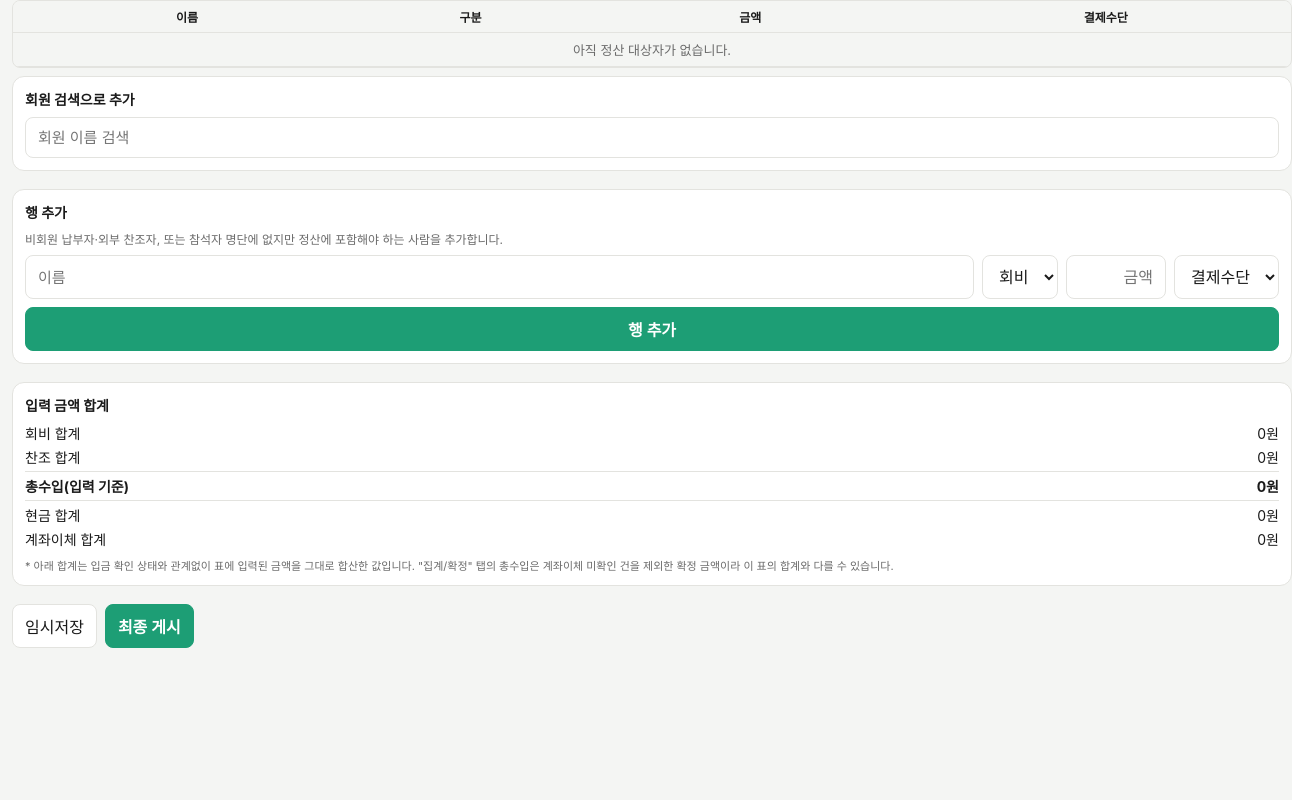
Test: 행 추가 폼 — 금액 입력칸 천단위 콤마 표시 › 행 추가 금액칸에 1234567을 입력하면 1,234,567로 보인다
The width and height of the screenshot is (1292, 800).
Type "1234567" into the field labelled "금액".
click(1116, 277); type("1234567")  # box [1066, 255, 1166, 299]
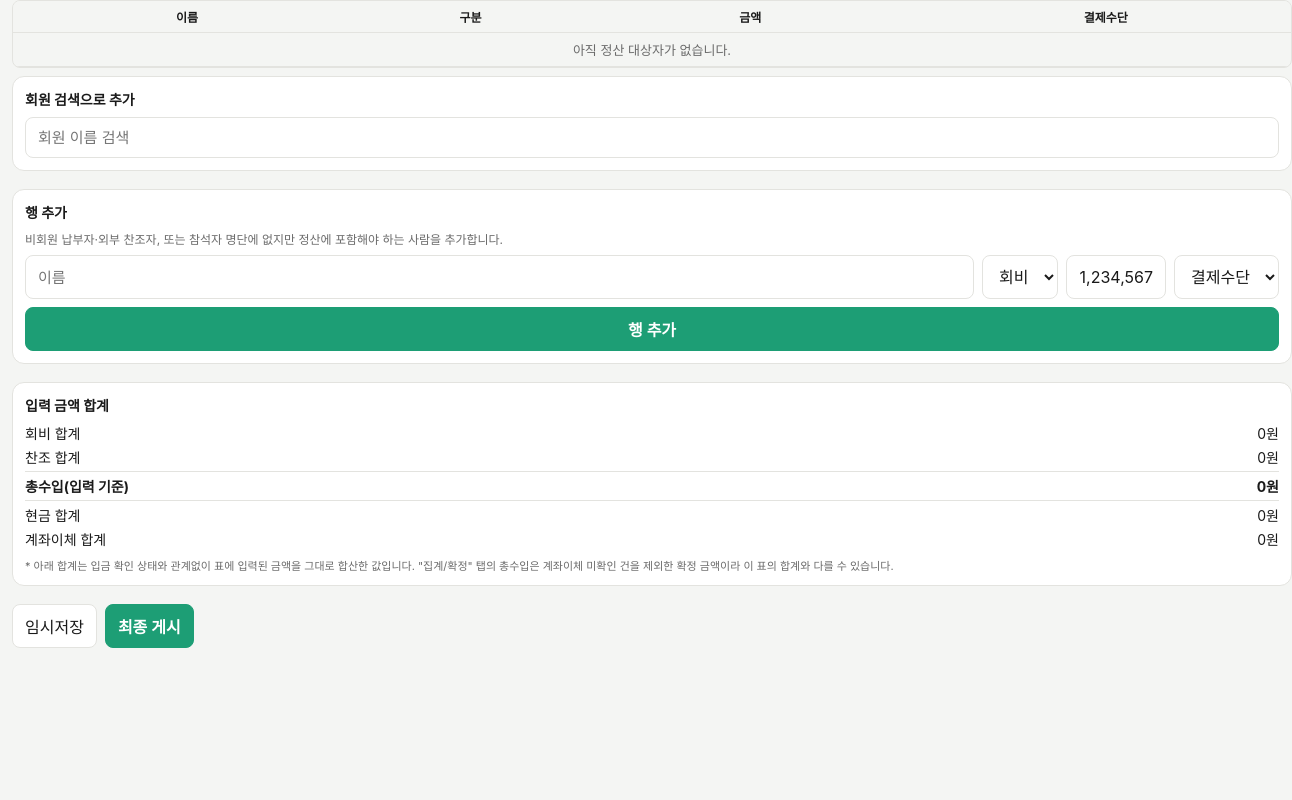
Expected: the field named "금액" holds "1,234,567", [1066, 255, 1166, 299]
